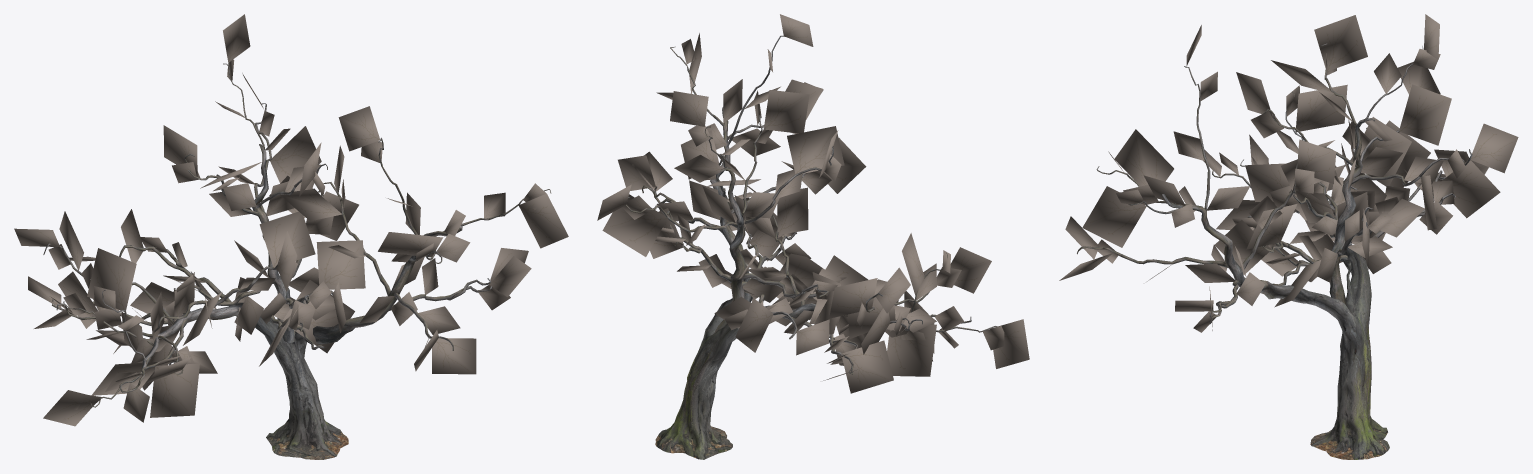
File: sm_TreeDead_01_01.fbx
3 renders of one model, left to right at view 1: azimuth 30°, elevation 25°; view 2: azimuth 150°, elevation 25°; view 3: azimuth 270°, elevation 25°, orthographic. The views are drawn at different scales.
Visible parts, largest first — view 1: sm_TreeDead_01_01_LOD0; view 2: sm_TreeDead_01_01_LOD0; view 3: sm_TreeDead_01_01_LOD0.
Part boxes in pixels (bbox=[...]): sm_TreeDead_01_01_LOD0: bbox=[14, 14, 568, 459]; sm_TreeDead_01_01_LOD0: bbox=[597, 14, 1029, 459]; sm_TreeDead_01_01_LOD0: bbox=[1059, 14, 1518, 459].
Bounding box in the file's own units: 869 × 747 × 731.
